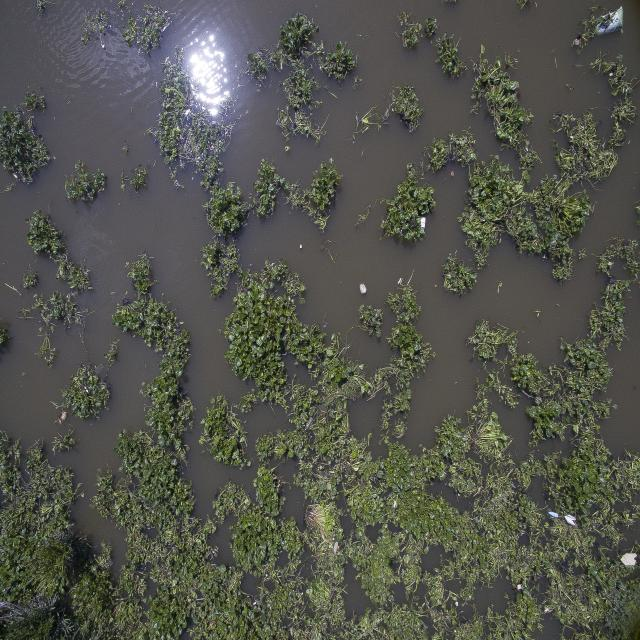plastic: (591, 0, 630, 43), (546, 502, 581, 539), (615, 544, 640, 578), (412, 210, 432, 242), (356, 280, 373, 300)
